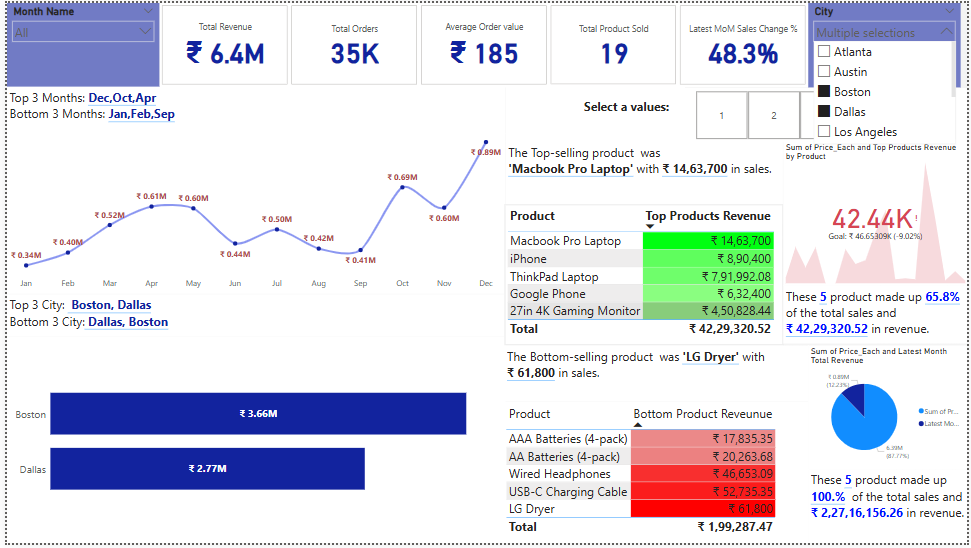

The page's visual inventory and layout, read from the dashboard file:
{"tool":"powerbi","page":{"name":"Page 1","canvas":[1920,1081],"ordinal":0},"visuals":[{"type":"cardVisual","fields":{"Data":["_Measures.Total Revenue","_Measures.Total Orders","_Measures.Average Order value","_Measures.Total Product Sold","_Measures.Latest MoM Sales Change %"]},"box":[304.8,0,1298,168.9],"z":0},{"type":"textbox","box":[0,167.1,996.9,93.6],"z":1000},{"type":"lineChart","fields":{"Y":["_Measures.Total Revenue"],"Category":["Calendar.Month Name"]},"box":[0,260.7,996.9,321.3],"z":2000},{"type":"clusteredBarChart","fields":{"Y":["_Measures.Total Revenue"],"Category":["Append1.City"]},"box":[0,666.4,996.9,414.9],"z":3000},{"type":"textbox","box":[0,582,996.9,84.5],"z":4000},{"type":"slicer","fields":{"Values":["Top N Selection.Value"]},"box":[1351.3,168.9,569.1,108.3],"z":5000},{"type":"tableEx","fields":{"Values":["Pseudo prod Table.Product","_Measures.Top Products Revenue"]},"box":[995.1,402.1,556.3,282.7],"z":6000},{"type":"textbox","box":[996.9,277.2,554.5,124.8],"z":7000},{"type":"textbox","box":[1551.4,565.5,369,115.7],"z":8000},{"type":"tableEx","fields":{"Values":["Append1.Product","_Measures.Bottomproductreveunue"]},"box":[991.4,796.8,611.4,284.6],"z":9000},{"type":"textbox","box":[996.9,167.1,358,110.2],"z":10000},{"type":"slicer","fields":{"Values":["Append1.City"]},"box":[1602.8,0,304.8,168.9],"z":11000},{"type":"slicer","fields":{"Values":["Calendar.Month Name"]},"box":[0,0,304.8,167.1],"z":12000},{"type":"textbox","box":[995.1,684.8,607.7,112],"z":13000},{"type":"textbox","box":[1602.8,932.7,317.6,148.7],"z":14000},{"type":"kpi","fields":{"Indicator":["Sum(Append1.Price_Each)"],"TrendLine":["Append1.Product"],"Goal":["_Measures.Top Products Revenue"]},"box":[1551.4,277.2,369,288.2],"z":15000},{"type":"pieChart","fields":{"Y":["Sum(Append1.Price_Each)","_Measures.Latest Month Total Revenue"]},"box":[1602.8,684.8,317.6,247.9],"z":16000}]}

Visuals, with their boxes in screenshot pixels (x1, y1, x2, y2), scaled from the page's 1920x1081 canvas onto the 971x548 screenshot:
cardVisual - _Measures.Total Revenue x _Measures.Total Orders: l=154, t=0, r=811, b=86
textbox: l=0, t=85, r=504, b=132
lineChart - _Measures.Total Revenue x Calendar.Month Name: l=0, t=132, r=504, b=295
clusteredBarChart - _Measures.Total Revenue x Append1.City: l=0, t=338, r=504, b=547
textbox: l=0, t=295, r=504, b=338
slicer - Top N Selection.Value: l=683, t=86, r=970, b=141
tableEx - Pseudo prod Table.Product x _Measures.Top Products Revenue: l=503, t=204, r=785, b=347
textbox: l=504, t=141, r=785, b=204
textbox: l=785, t=287, r=970, b=345
tableEx - Append1.Product x _Measures.Bottomproductreveunue: l=501, t=404, r=811, b=547
textbox: l=504, t=85, r=685, b=141
slicer - Append1.City: l=811, t=0, r=965, b=86
slicer - Calendar.Month Name: l=0, t=0, r=154, b=85
textbox: l=503, t=347, r=811, b=404
textbox: l=811, t=473, r=970, b=547
kpi - Sum(Append1.Price_Each) x Append1.Product: l=785, t=141, r=970, b=287
pieChart - Sum(Append1.Price_Each) x _Measures.Latest Month Total Revenue: l=811, t=347, r=970, b=473
